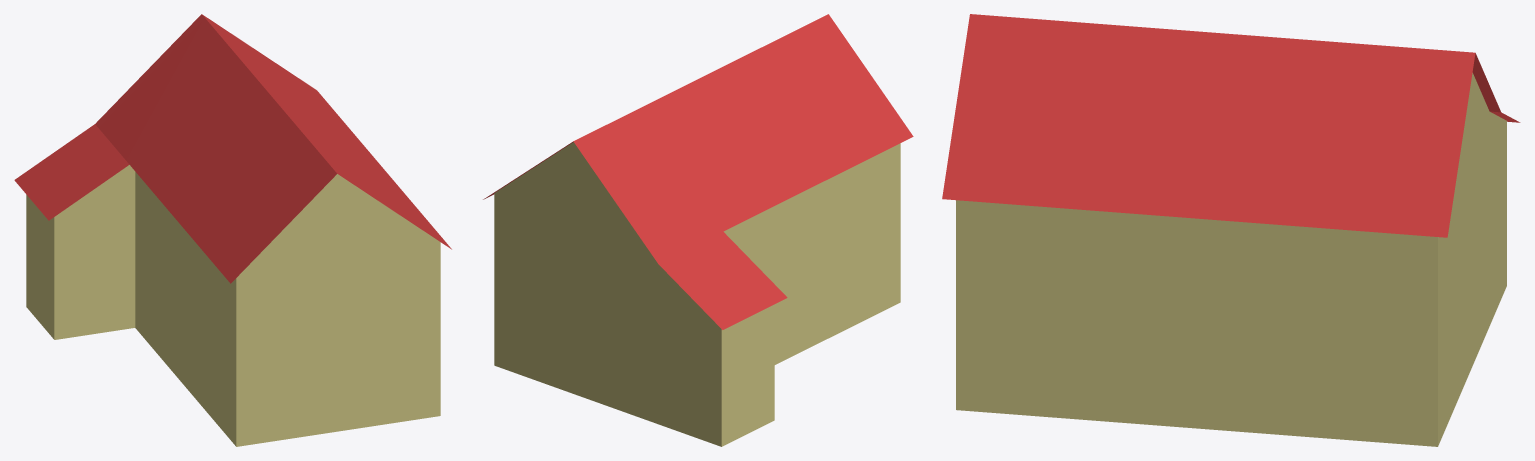
3 views of the same model, side by side, from view 1: azimuth 30°, elevation 25°; view 2: azimuth 150°, elevation 25°; view 3: azimuth 270°, elevation 25° (orthographic). The views are drawn at different scales.
Bounding box in the file's own units: 17.88 × 24.18 × 15.44.
